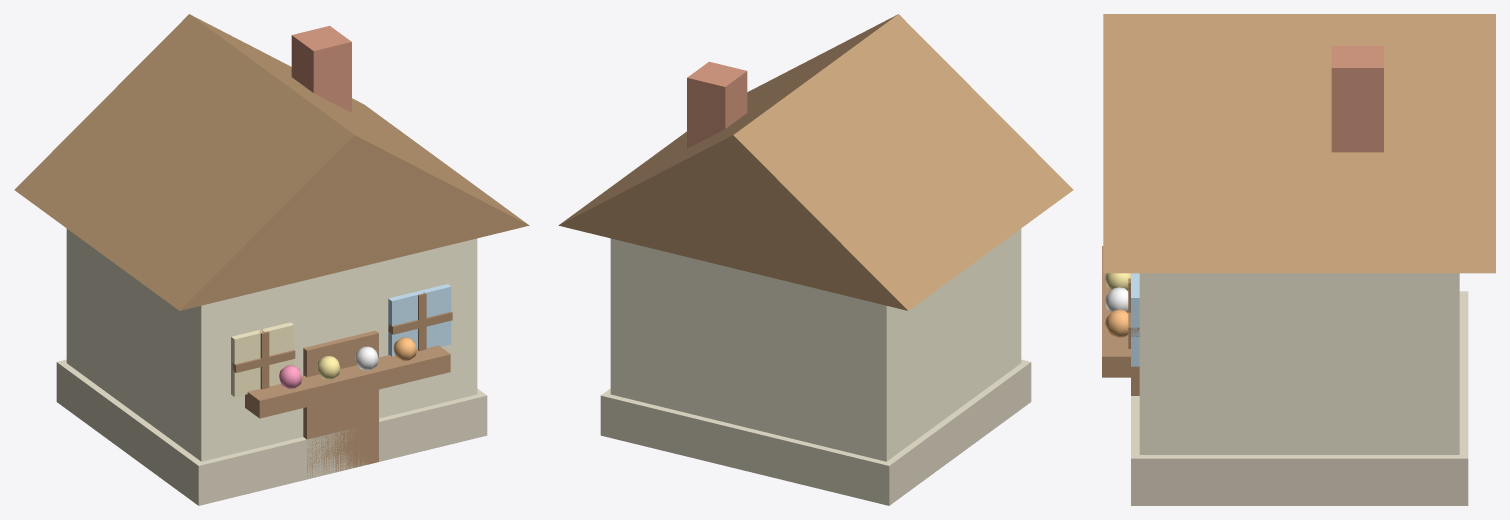
File: rumahw3.glb
3 renders of one model, left to right at view 1: azimuth 30°, elevation 25°; view 2: azimuth 150°, elevation 25°; view 3: azimuth 270°, elevation 25°, orthographic. The views are drawn at different scales.
Parts seen in each view (by area): view 1: rumahw3; view 2: rumahw3; view 3: rumahw3.
Part boxes in pixels (bbox=[...]): rumahw3: bbox=[14, 14, 529, 505]; rumahw3: bbox=[558, 14, 1073, 505]; rumahw3: bbox=[1102, 14, 1495, 505].
Bounding box in the file's own units: 1.65 × 1.55 × 1.36.
